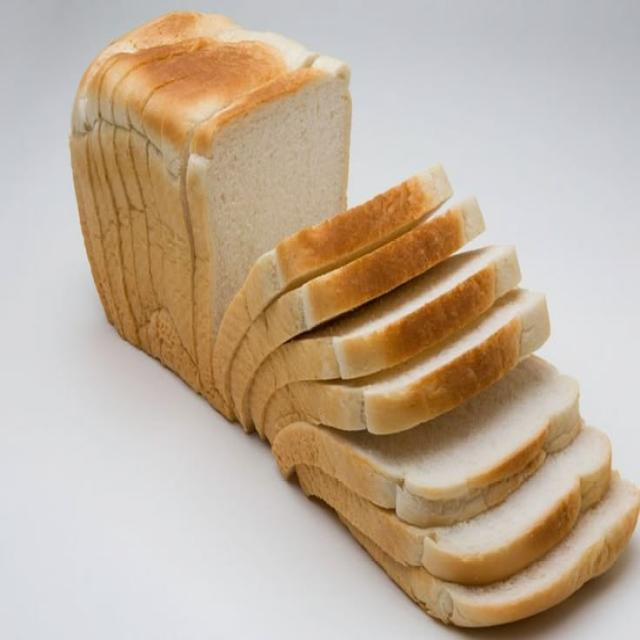sliced bread: (71, 13, 350, 416), (230, 199, 484, 430), (213, 165, 452, 396), (273, 356, 579, 526), (250, 246, 519, 435), (297, 428, 611, 584), (342, 472, 639, 627), (265, 289, 550, 440)
